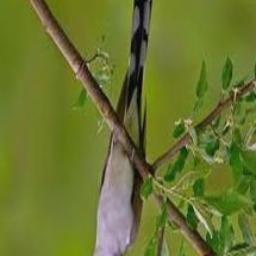Cuckoo: (75, 0, 155, 256)
